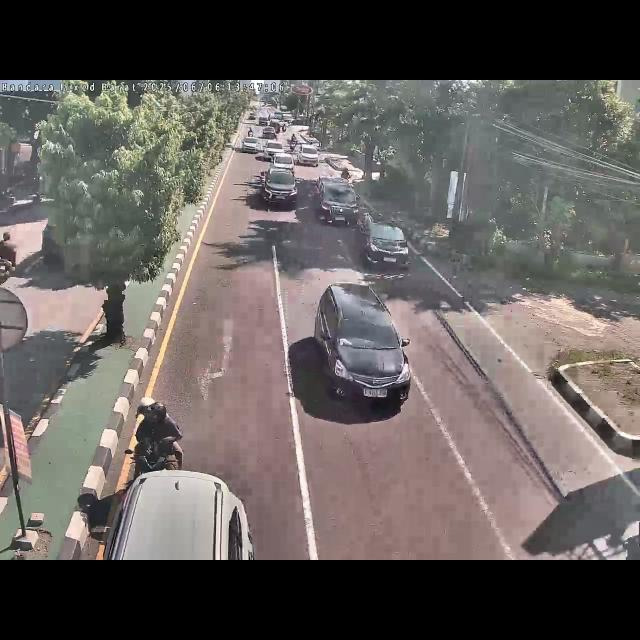Mobil: (311, 279, 413, 417), (107, 472, 256, 560), (356, 210, 414, 274), (311, 172, 363, 235), (260, 167, 300, 209)
Motor: (127, 396, 183, 489)
